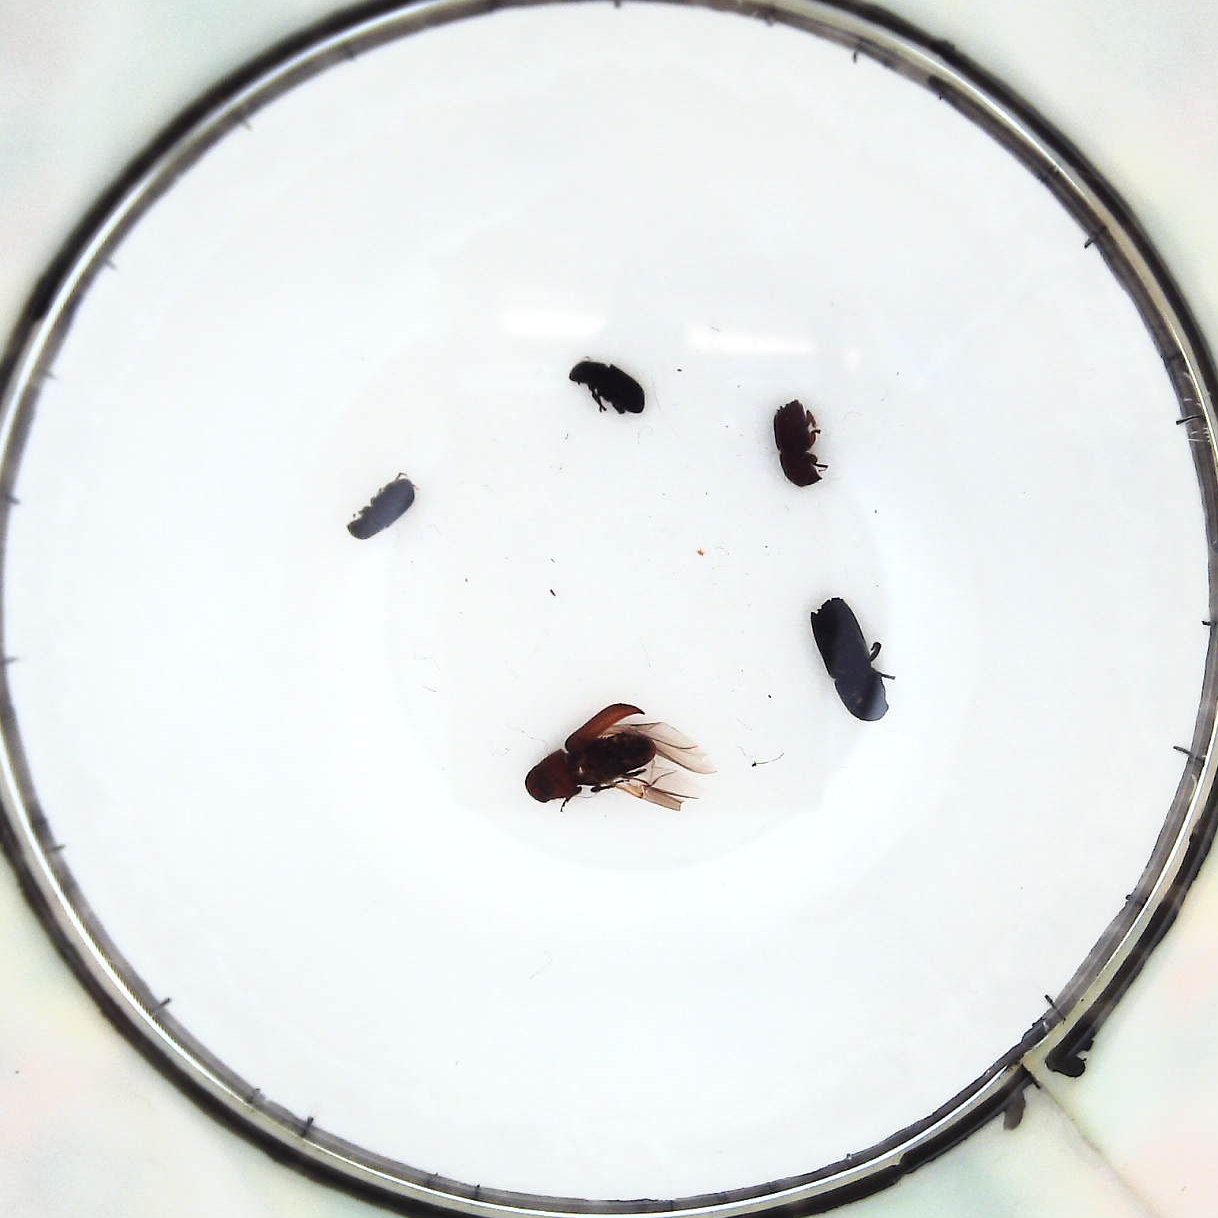Boerner: (805, 600, 890, 721)
Leconte: (529, 698, 692, 810)
Linnaeus: (773, 403, 822, 485)
armandi: (570, 356, 648, 420), (346, 476, 417, 542)
